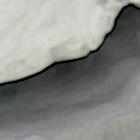brick: (52, 105, 139, 139)
broken_brick: (0, 0, 139, 80)
crack: (0, 2, 139, 139)
